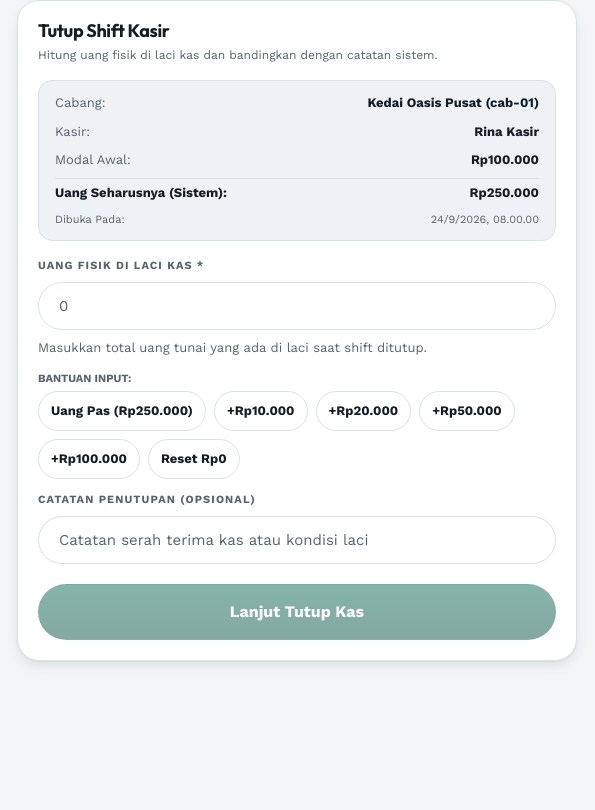
Komponen TutupKas (T7-02) › tombol tambah uang dan reset berfungsi dengan benar
Click the button "+Rp50.000". click: x=467, y=411
box: [419,391,515,431]
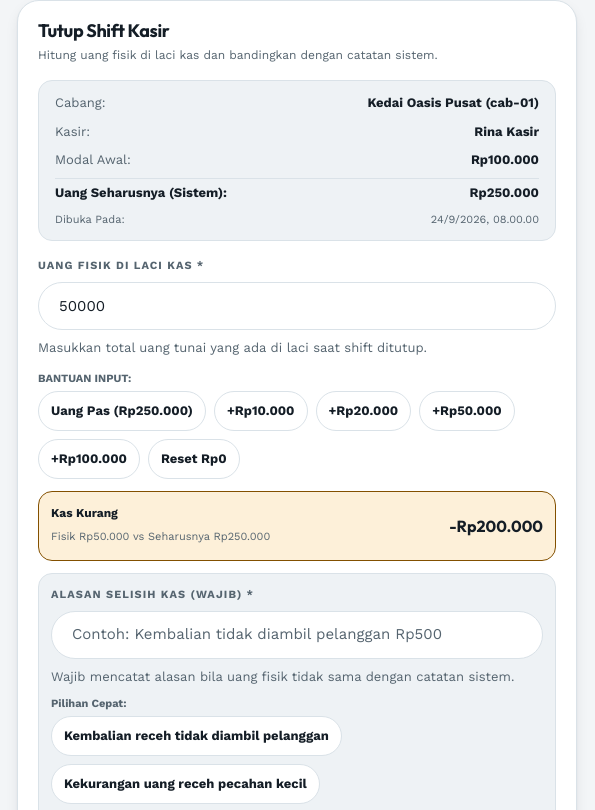
Expected: the number field labelled "Uang Fisik di Laci Kas *" holds "50000", [38,282,556,330]
Click the button "Reset Rp0". click: x=194, y=459
box: [148,439,240,479]
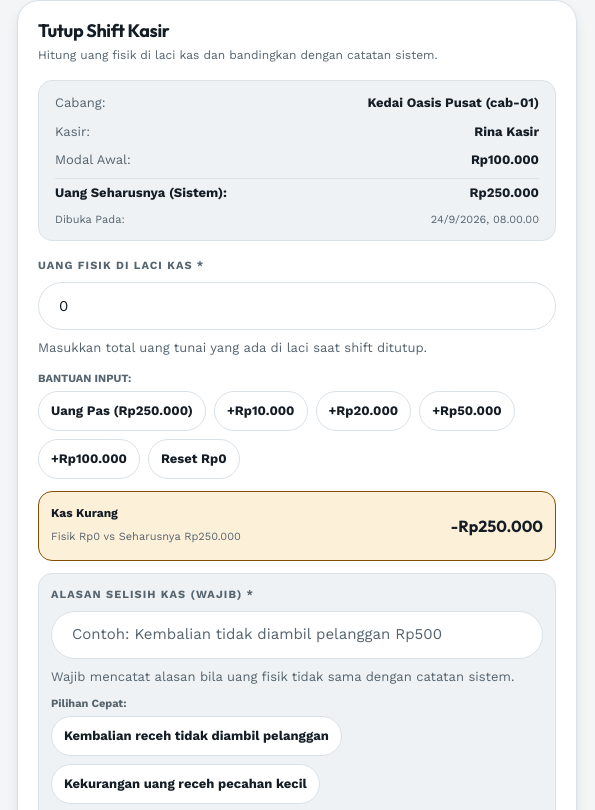
Expected: the number field labelled "Uang Fisik di Laci Kas *" holds "0", [38,282,556,330]
